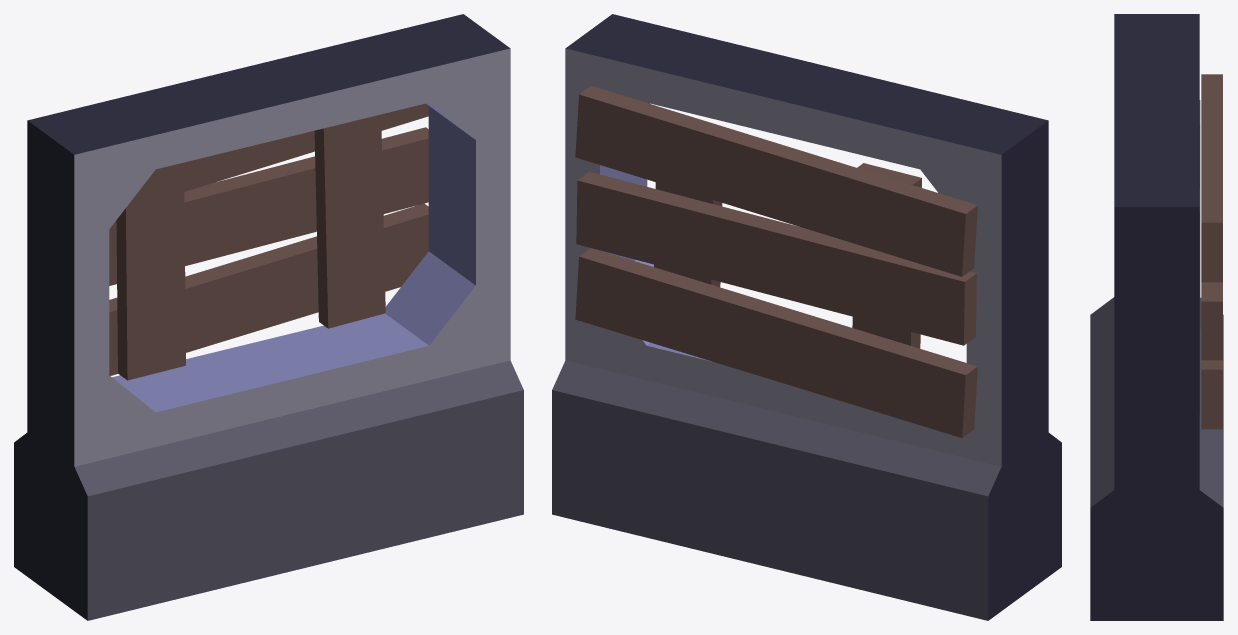
File: WallWindowBoarded.fbx
3 renders of one model, left to right at view 1: azimuth 30°, elevation 25°; view 2: azimuth 150°, elevation 25°; view 3: azimuth 270°, elevation 25°, orthographic. The views are drawn at different scales.
Parts seen in each view (by area): view 1: WallWindow-Boarded; view 2: WallWindow-Boarded; view 3: WallWindow-Boarded.
Part boxes in pixels (bbox=[...]): WallWindow-Boarded: bbox=[14, 14, 523, 620]; WallWindow-Boarded: bbox=[552, 14, 1061, 620]; WallWindow-Boarded: bbox=[1090, 14, 1223, 620].
Bounding box in the file's own units: 200 × 200 × 58.52.
